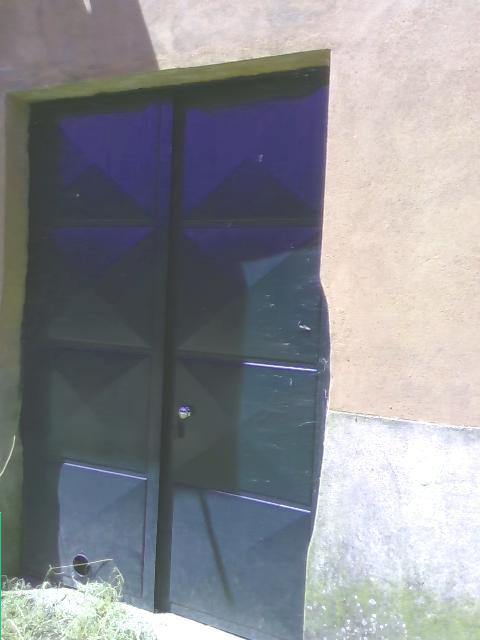closed_door: (18, 63, 330, 639)
